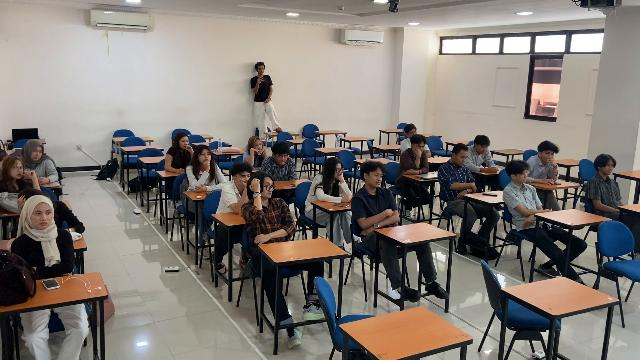bingung: (33, 206, 51, 228), (263, 178, 274, 198), (11, 162, 23, 179), (371, 170, 382, 188), (31, 147, 42, 161), (457, 151, 467, 166), (239, 170, 251, 182), (542, 151, 554, 163), (179, 137, 190, 149), (199, 152, 211, 163), (604, 161, 613, 175), (276, 154, 287, 165), (519, 170, 528, 183), (336, 164, 343, 178), (478, 144, 488, 153), (254, 139, 262, 150), (416, 142, 424, 153)
